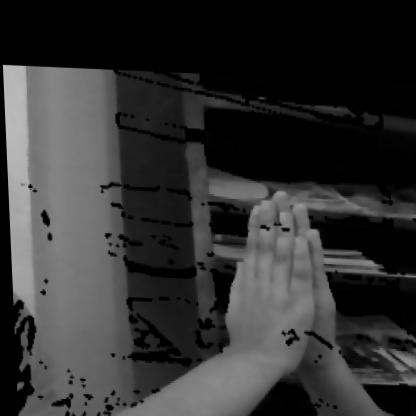namaste: (157, 157, 365, 415)
